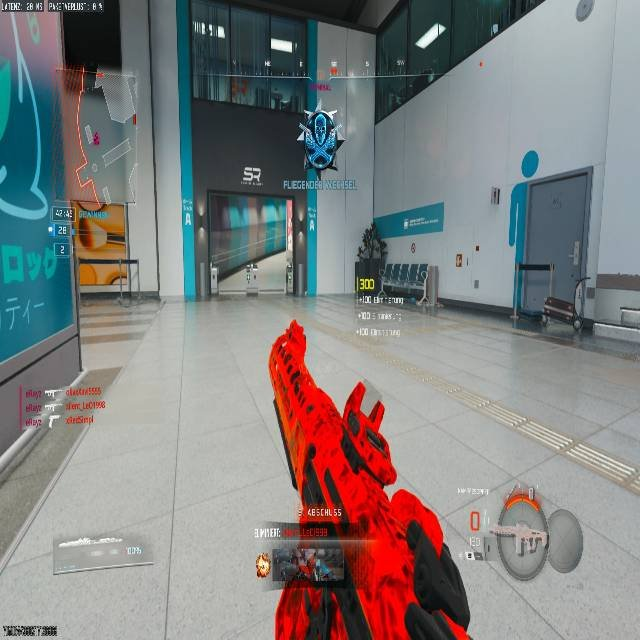player: (257, 541, 328, 640), (297, 107, 343, 176)
